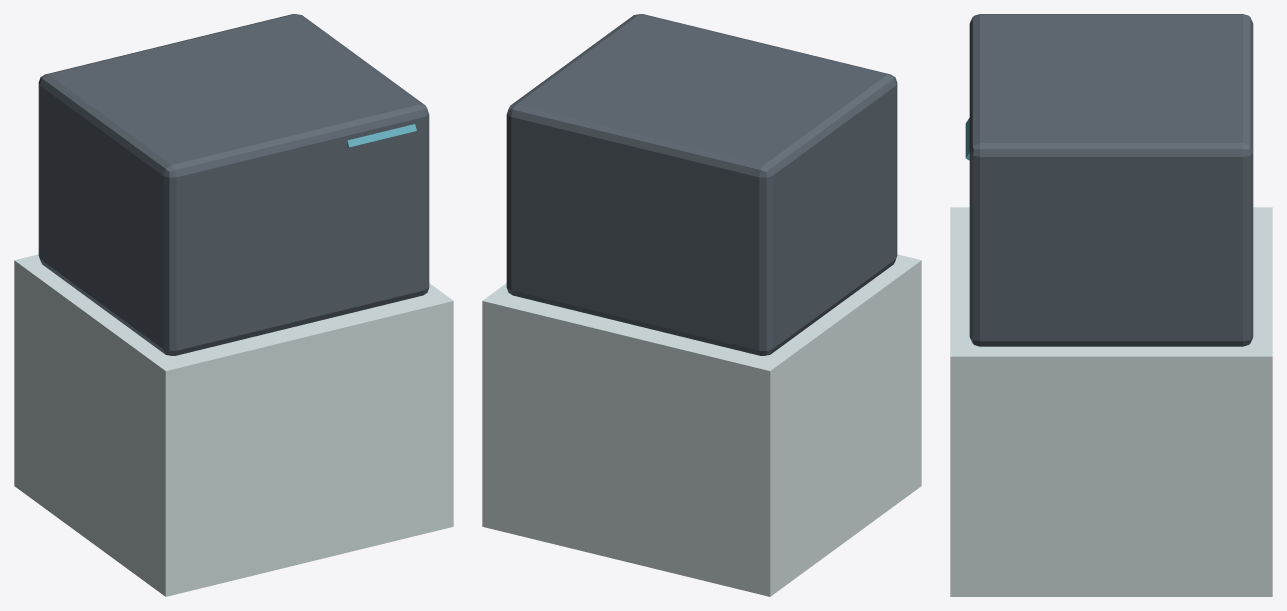
The model's file is ai.test-printer.glb.
The picture shows the model from 3 angles, left to right: view 1: azimuth 30°, elevation 25°; view 2: azimuth 150°, elevation 25°; view 3: azimuth 270°, elevation 25°; orthographic projection. The views are drawn at different scales.
Visible parts, largest first — view 1: Hero_Asset; view 2: Hero_Asset; view 3: Hero_Asset.
Boxes of the visible parts, <box> form: Hero_Asset: <box>14,14,453,596</box>; Hero_Asset: <box>482,14,921,596</box>; Hero_Asset: <box>950,14,1272,596</box>.
Bounding box in the file's own units: 0.7083 × 0.98 × 0.6458.
